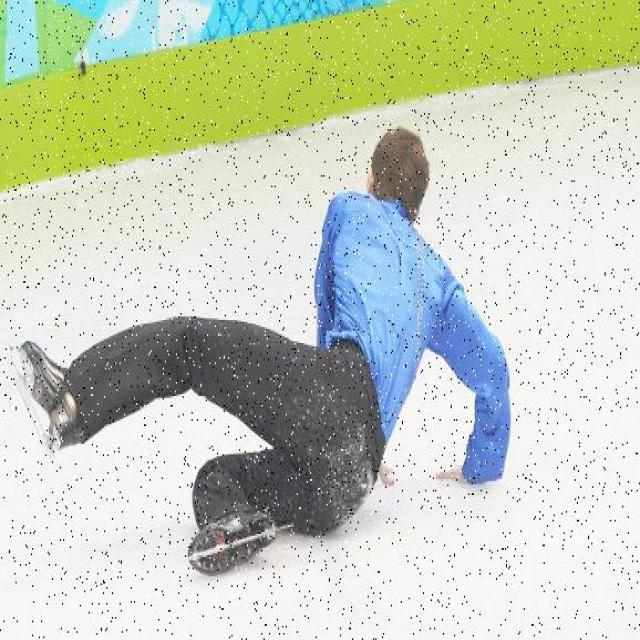fall: (26, 143, 512, 525)
